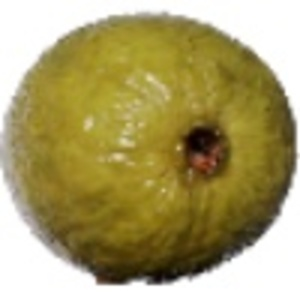goiaba: (5, 13, 296, 278)
